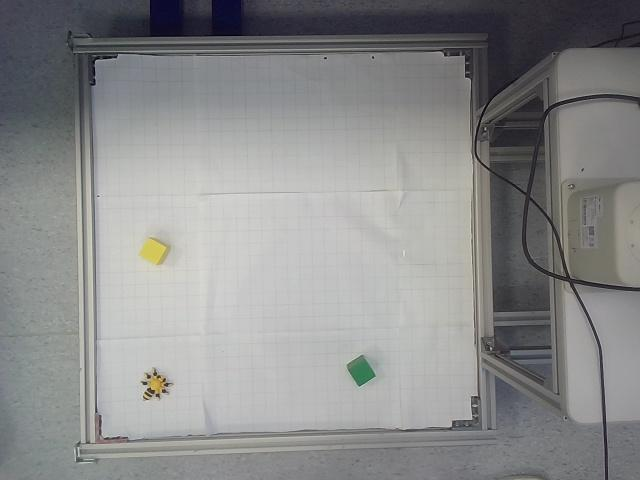frelon: (141, 367, 174, 401)
